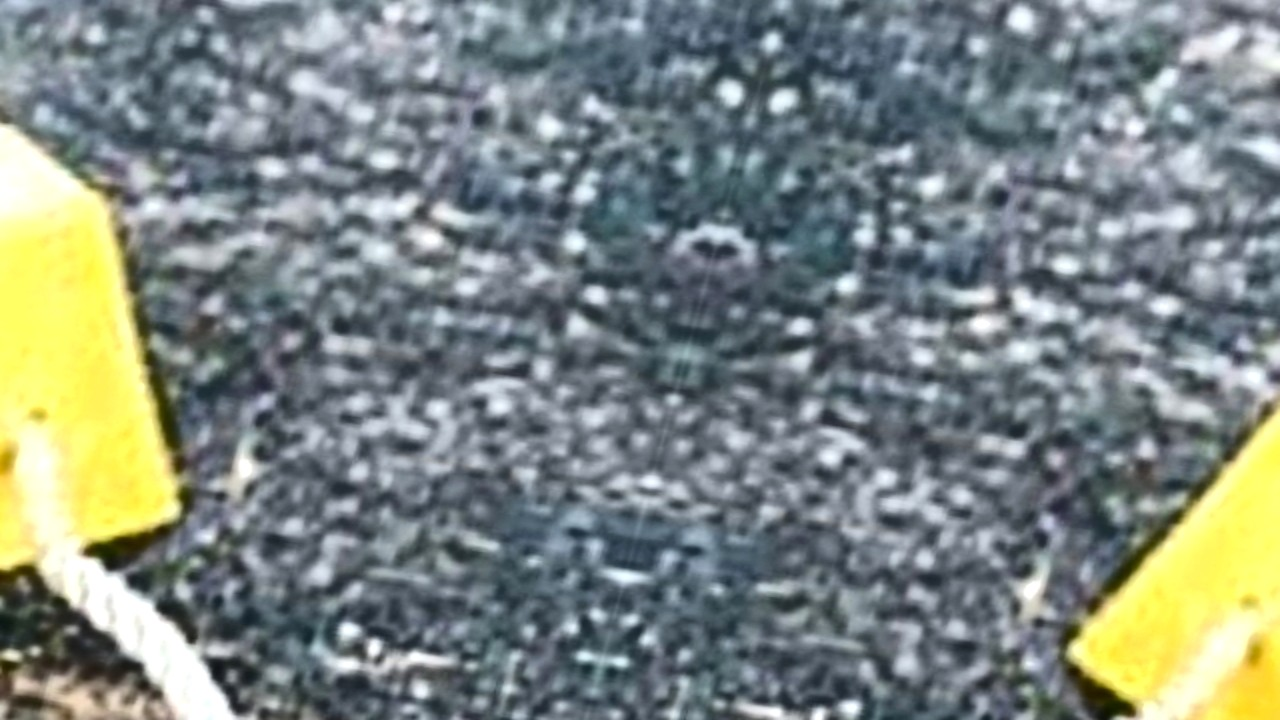chock: (0, 0, 314, 720)
